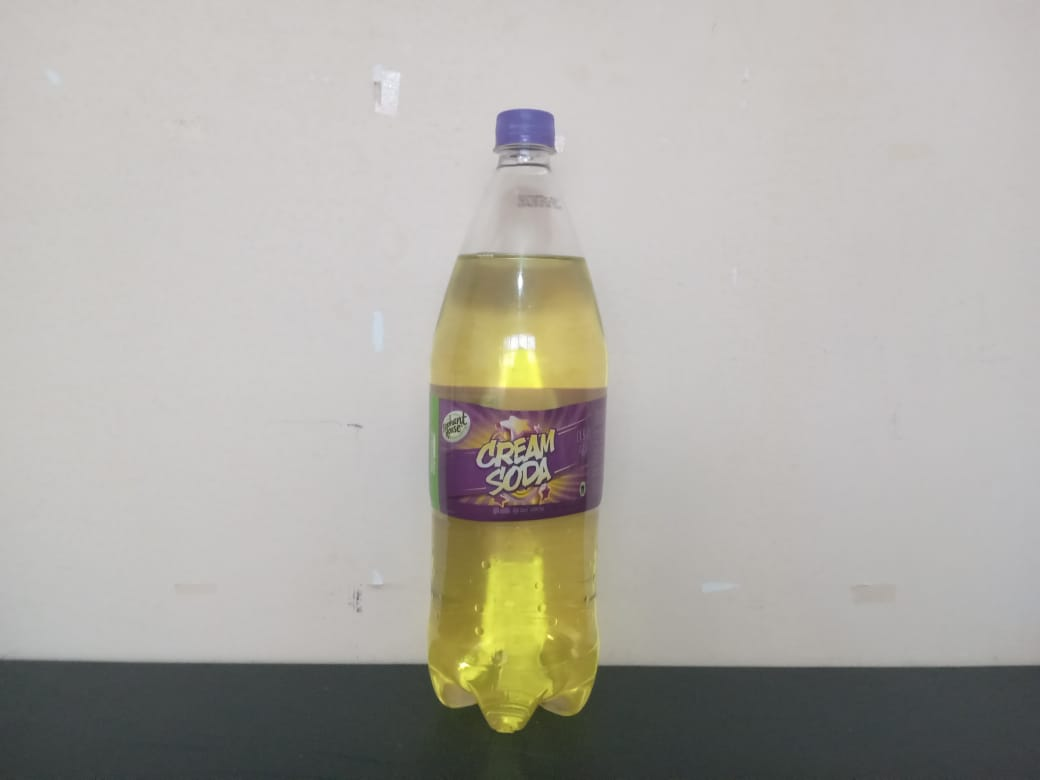L: (415, 104, 613, 741)
